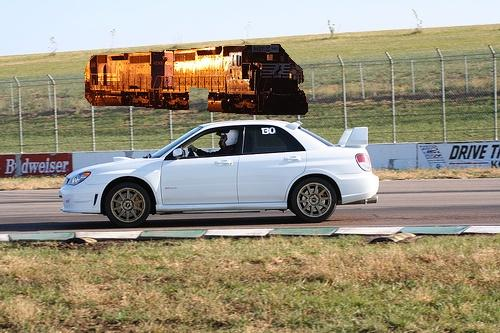tampered: (86, 45, 308, 115)
